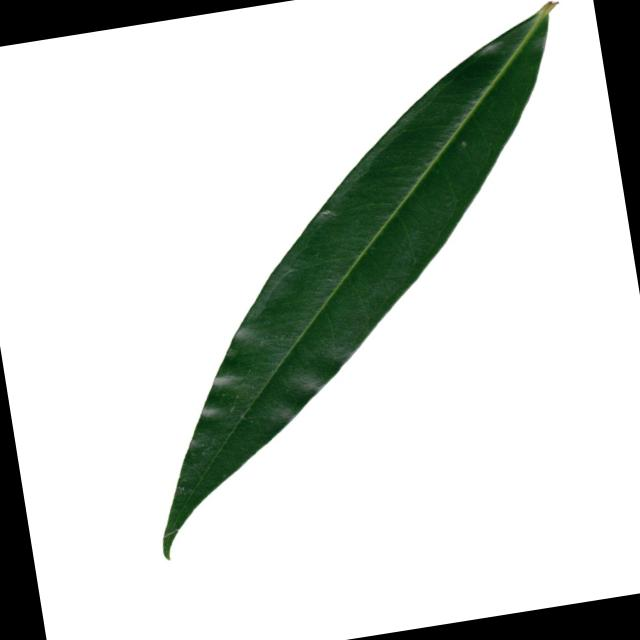Medicinal-Rose Apple: (90, 0, 632, 564)
